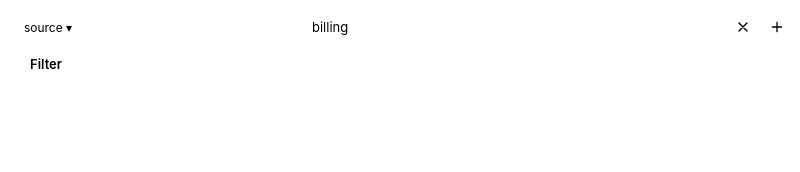
Test case: HeaderFilterPanel › x clears that row's key and value without removing the row
The image size is (800, 172).
Click the button named "Clear header 1" at coordinates (743, 27), box [728,12,758,42]
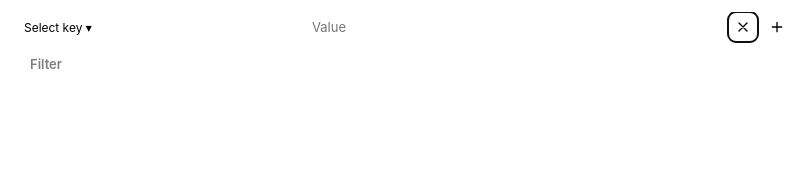
Result: the field named "Header value 1" is empty at [300,12,720,42]
Result: the button "Select key ▾" is shown at [12,12,292,42]
